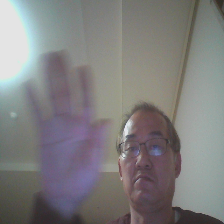hand: (22, 51, 115, 224)
